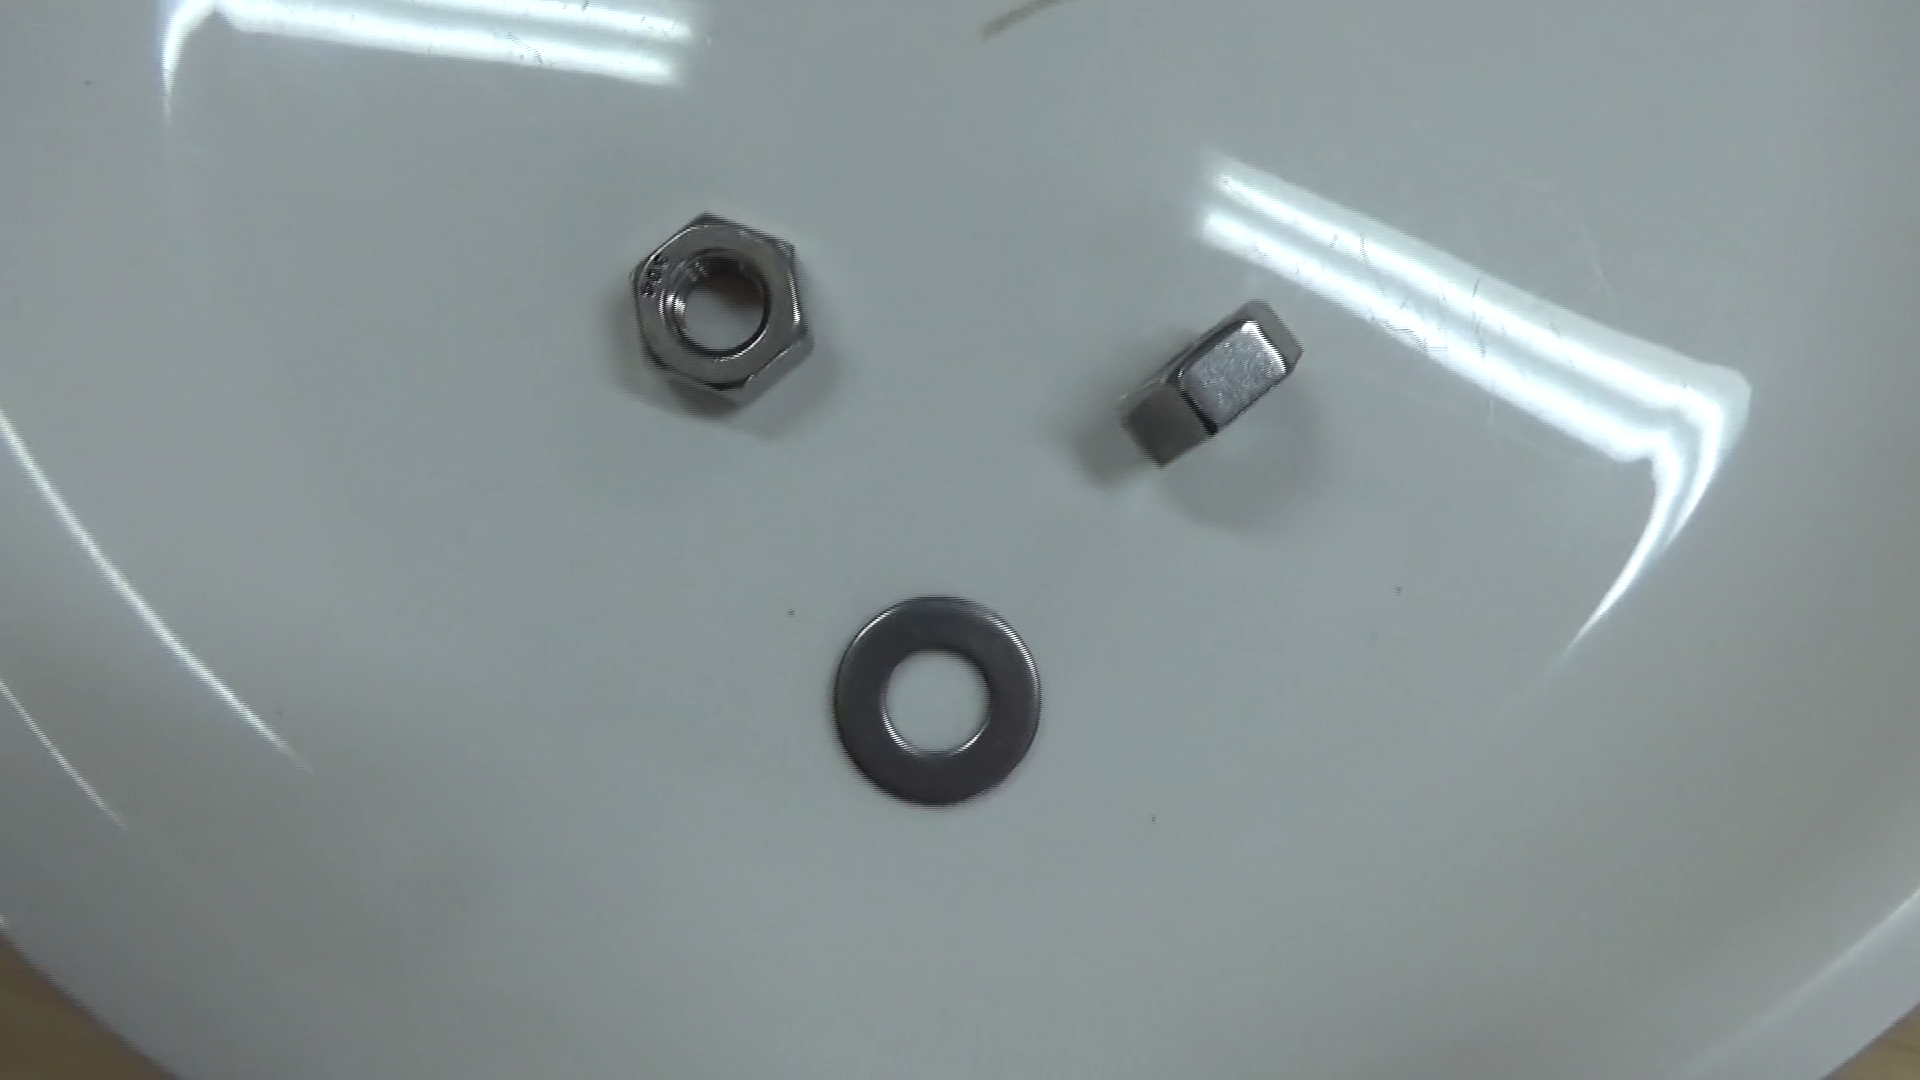nut: (630, 203, 819, 417), (1113, 297, 1304, 468)
washer: (827, 591, 1044, 811)
